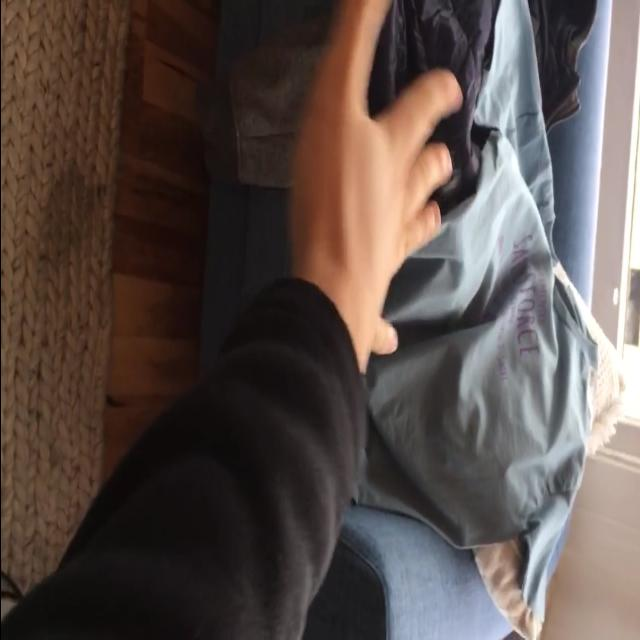Paper: (290, 0, 460, 375)
